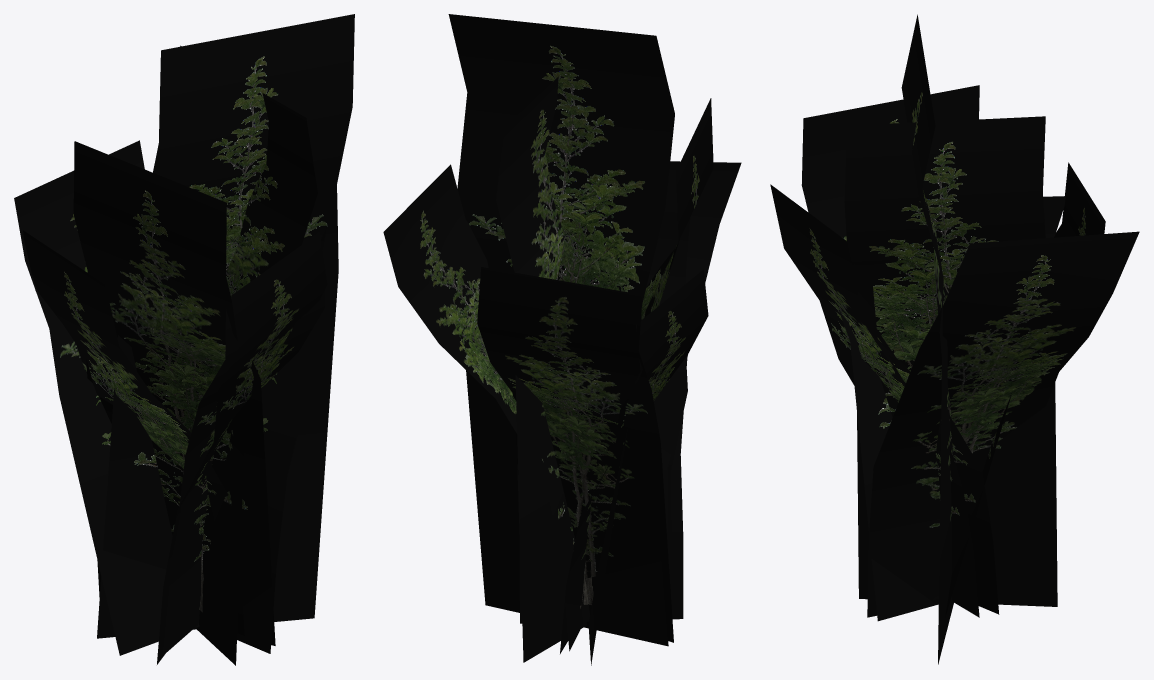
File: tree_1.obj
3 views of the same model, side by side, from view 1: azimuth 30°, elevation 25°; view 2: azimuth 150°, elevation 25°; view 3: azimuth 270°, elevation 25° (orthographic). The views are drawn at different scales.
Parts seen in each view (by area): view 1: tree_1; view 2: tree_1; view 3: tree_1.
Part boxes in pixels (x1,y1,x2,y2): tree_1: [14, 14, 354, 665]; tree_1: [383, 14, 741, 665]; tree_1: [770, 14, 1139, 664].
Bounding box in the file's own units: 1.97 × 4.3 × 2.5.
